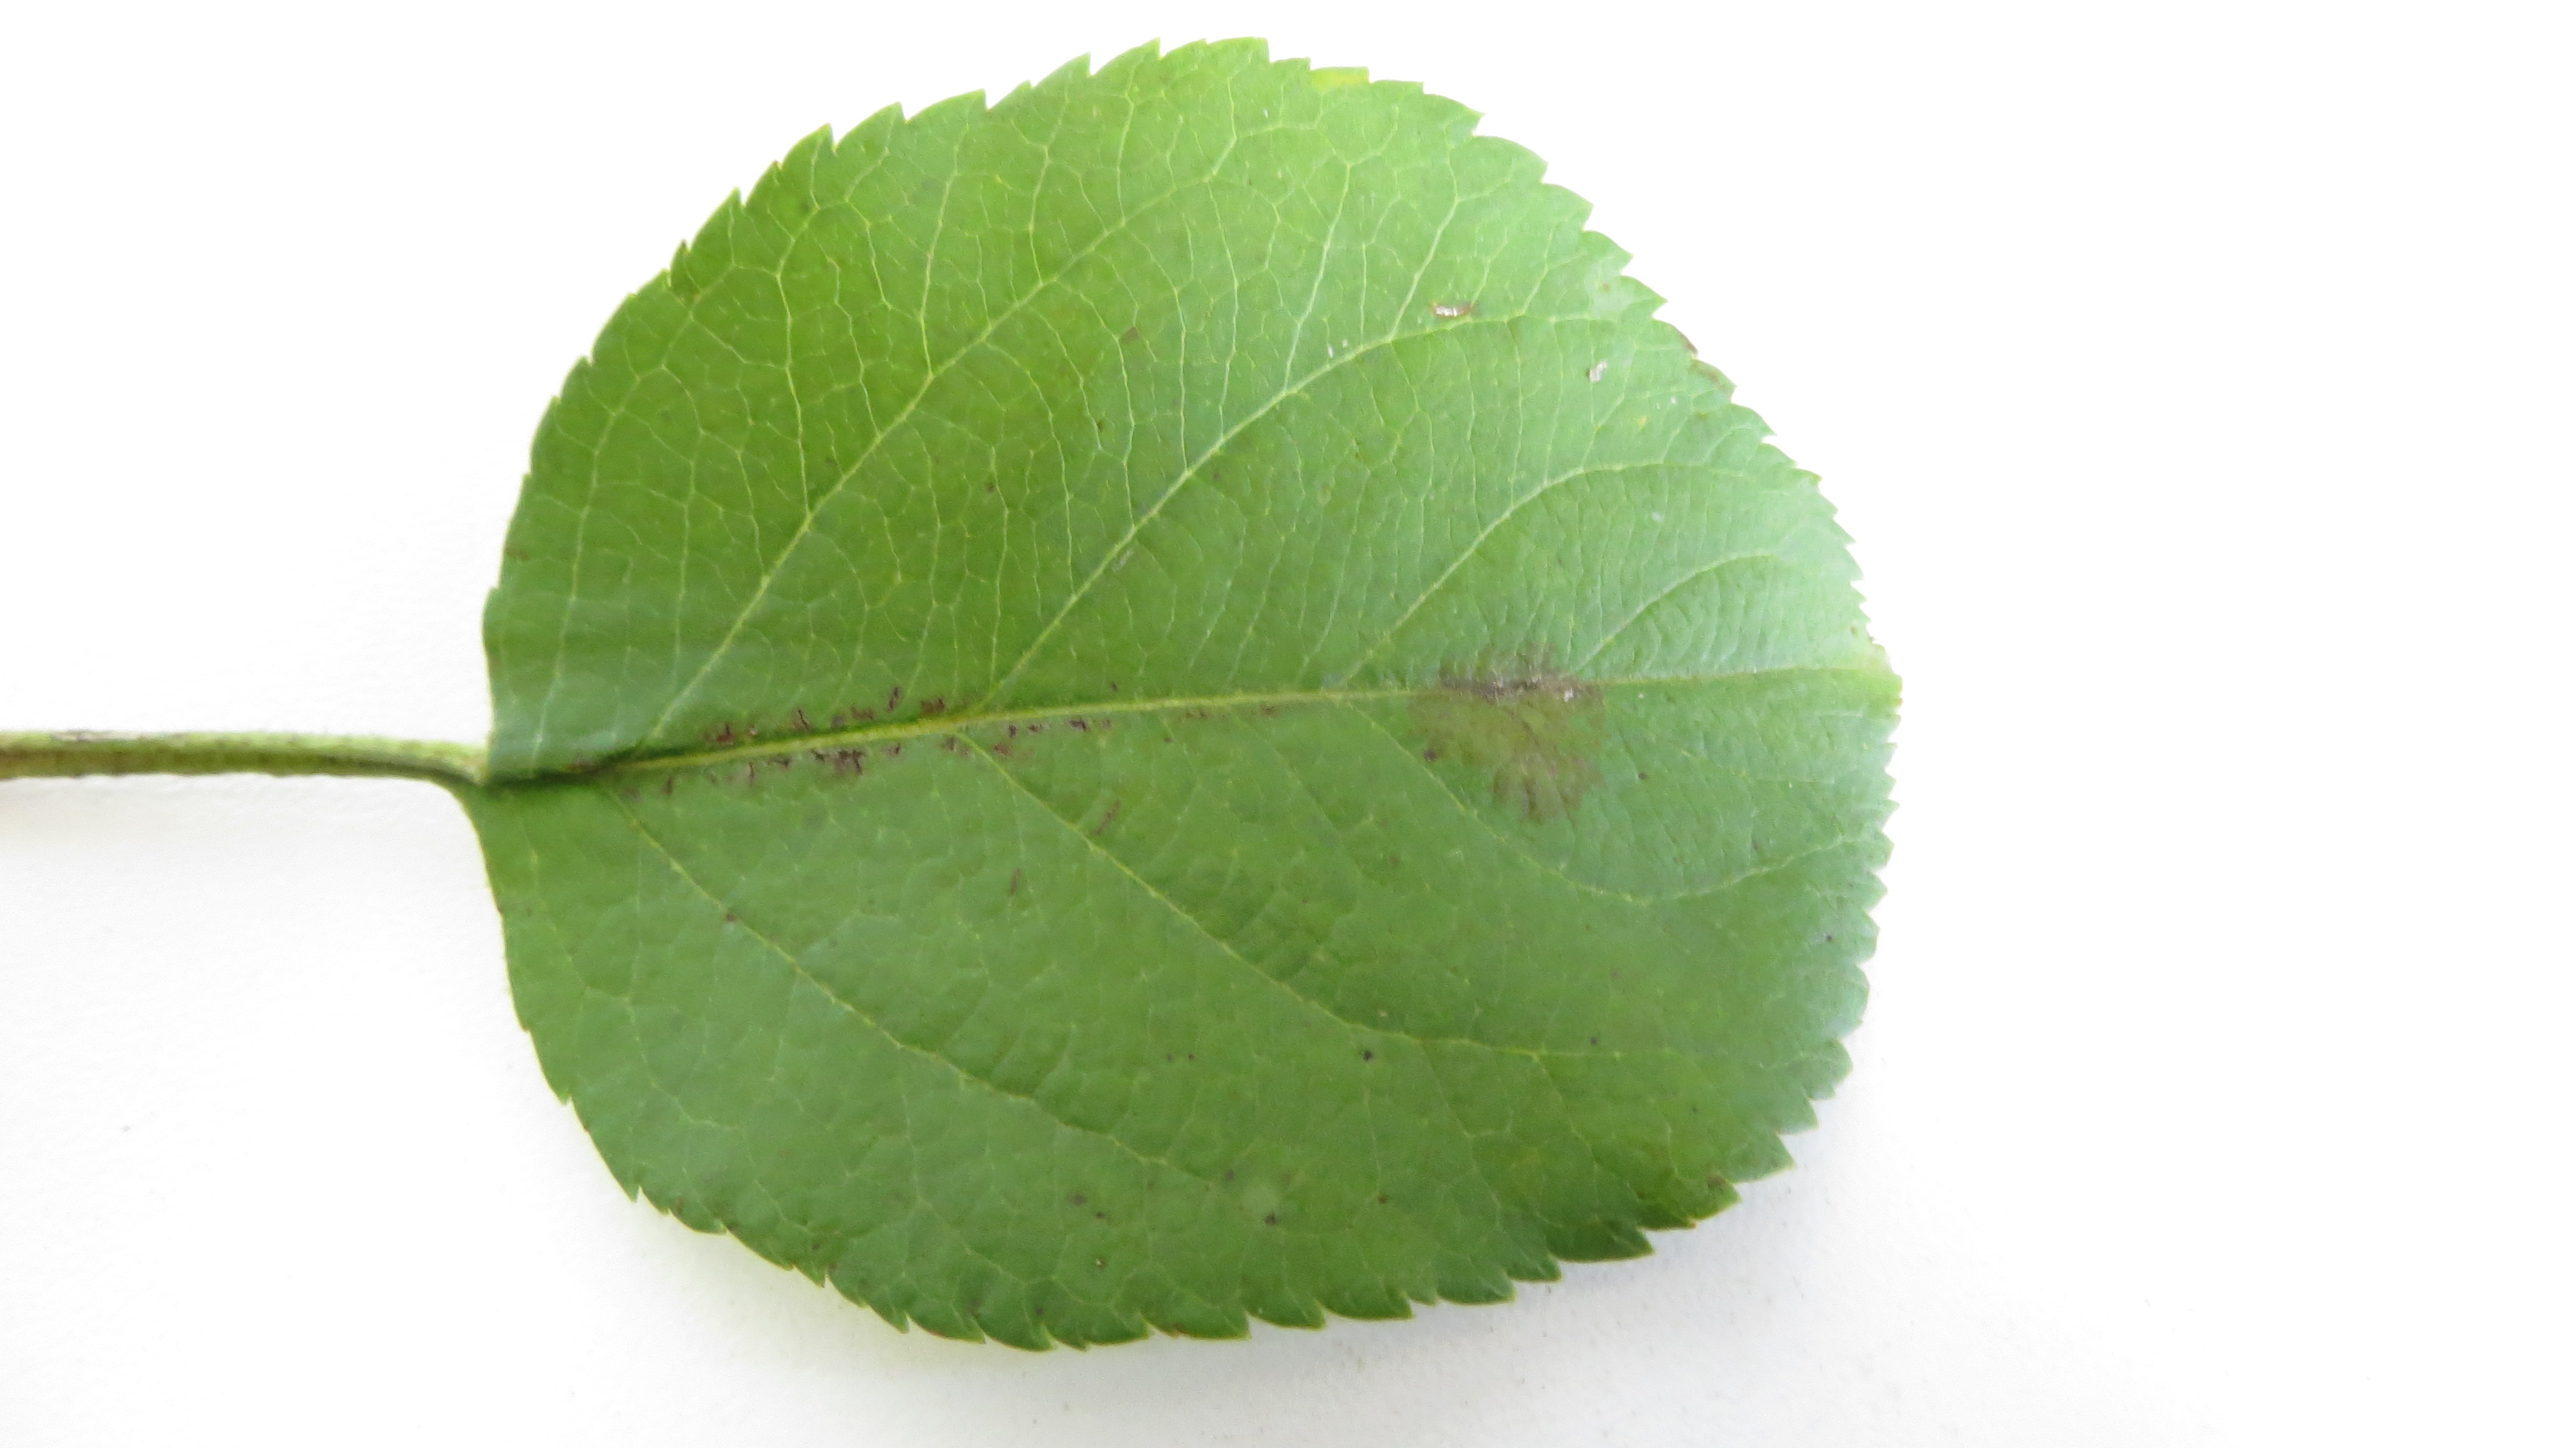sarna: (1426, 639, 1610, 821), (796, 708, 929, 793), (904, 678, 1024, 766), (690, 703, 800, 798), (1021, 674, 1127, 751)
